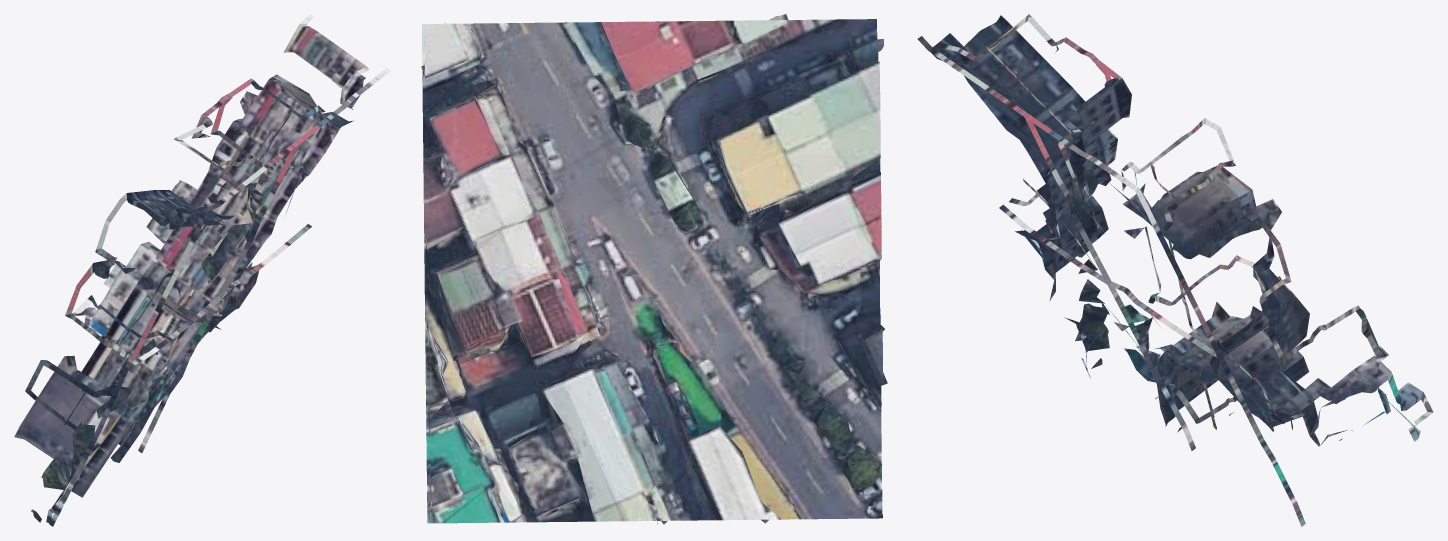
3 views of the same model, side by side, from view 1: azimuth 30°, elevation 25°; view 2: azimuth 150°, elevation 25°; view 3: azimuth 270°, elevation 25° (orthographic). The views are drawn at different scales.
Size of the model in its own units: 78.64 by 76.93 by 85.24.
Materials: 1 (1 with a texture image).
